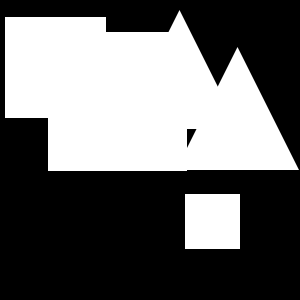circle: (48, 32, 187, 171), (5, 17, 106, 118), (185, 194, 240, 249)
triangle: (176, 47, 299, 170), (120, 10, 239, 129)
